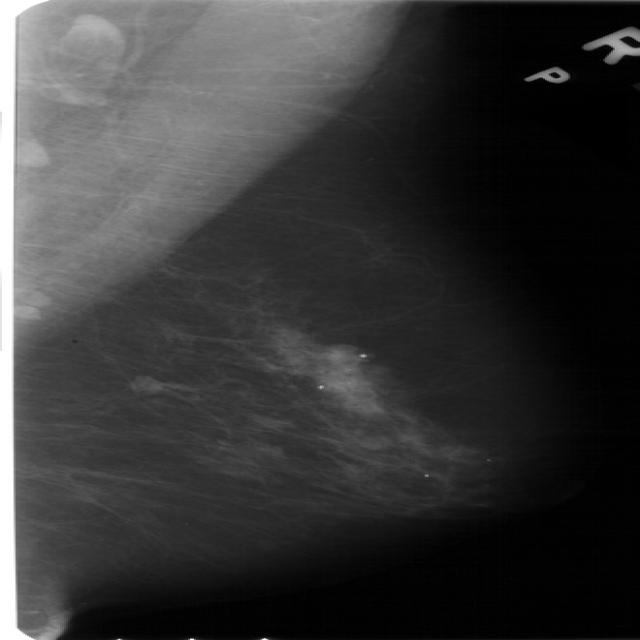tumour: (126, 374, 159, 394)
